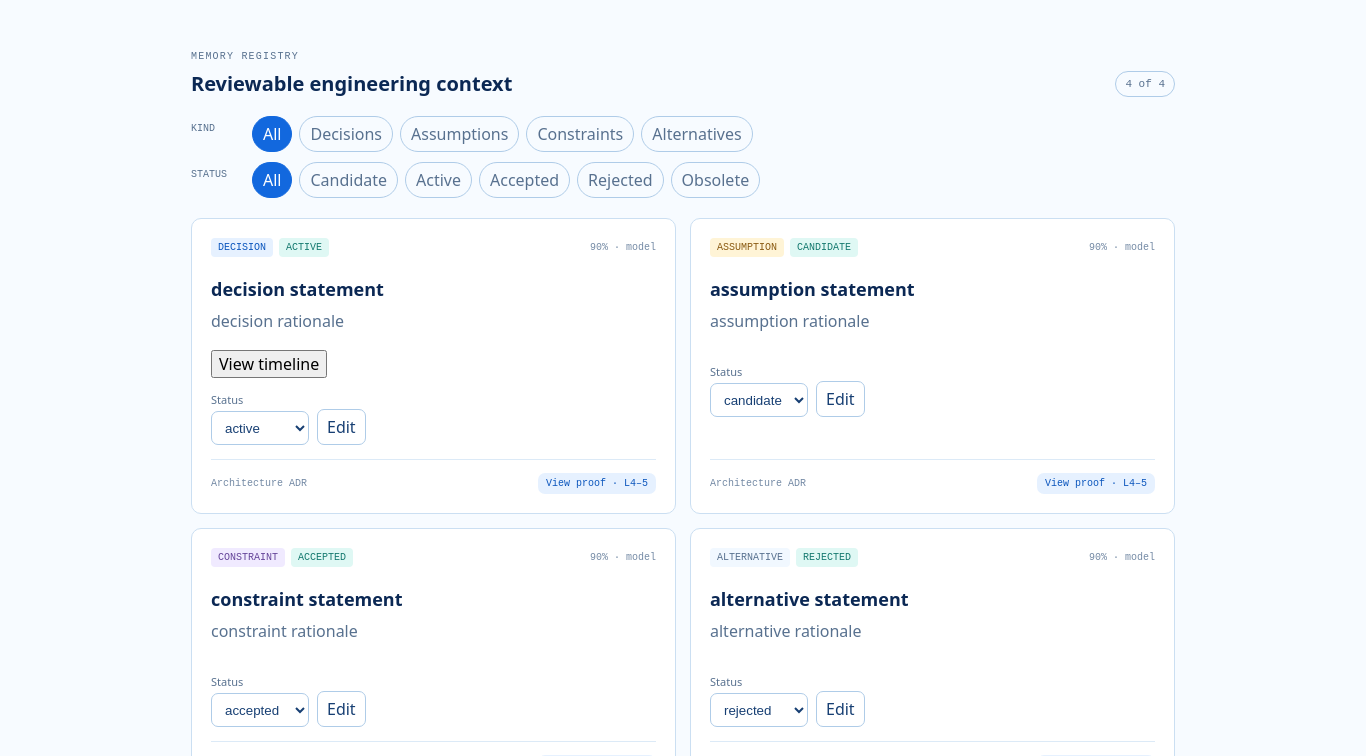
MemoryView › combines status and kind filters honestly
Click the button "accepted" at (525, 180), box [479, 162, 570, 198]
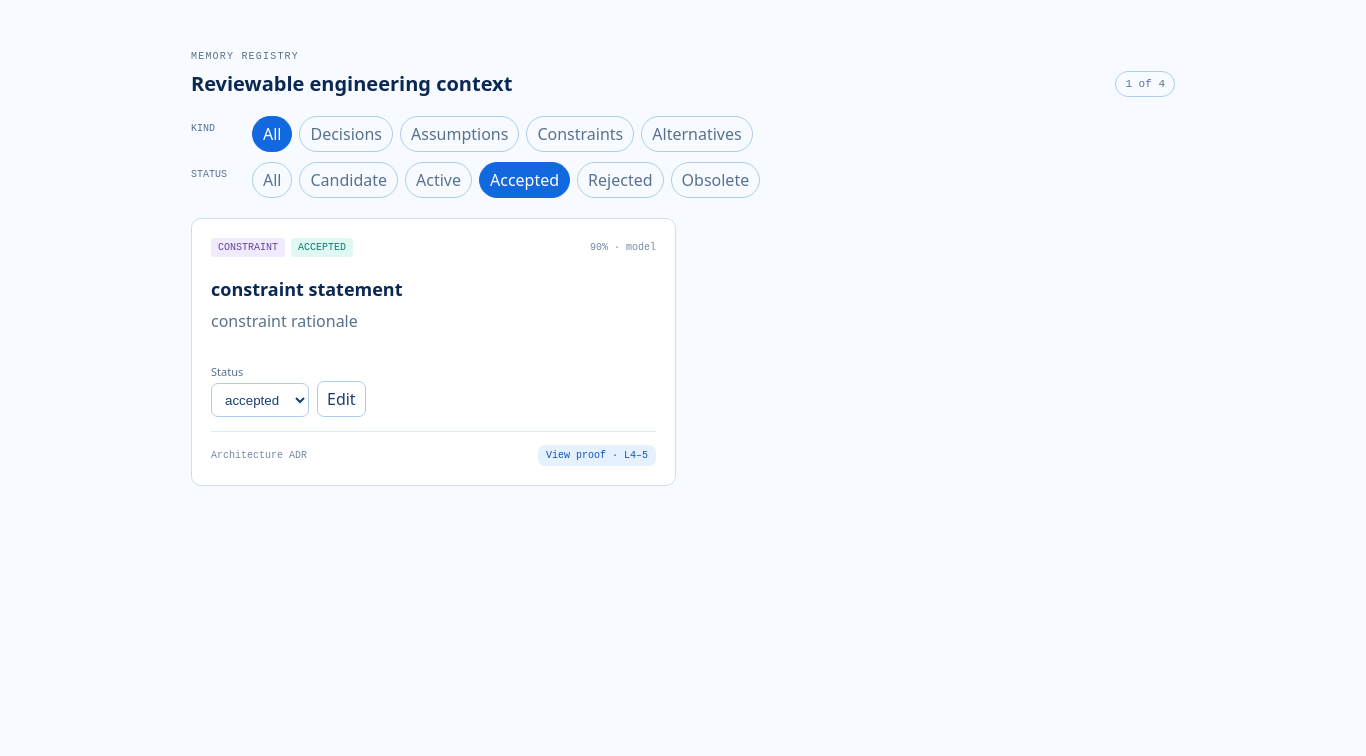
Expected: the heading "constraint statement" is shown, [211, 277, 402, 301]
Result: the heading "assumption statement" is gone
Click the button "Assumptions" at (460, 134), box [400, 116, 519, 152]
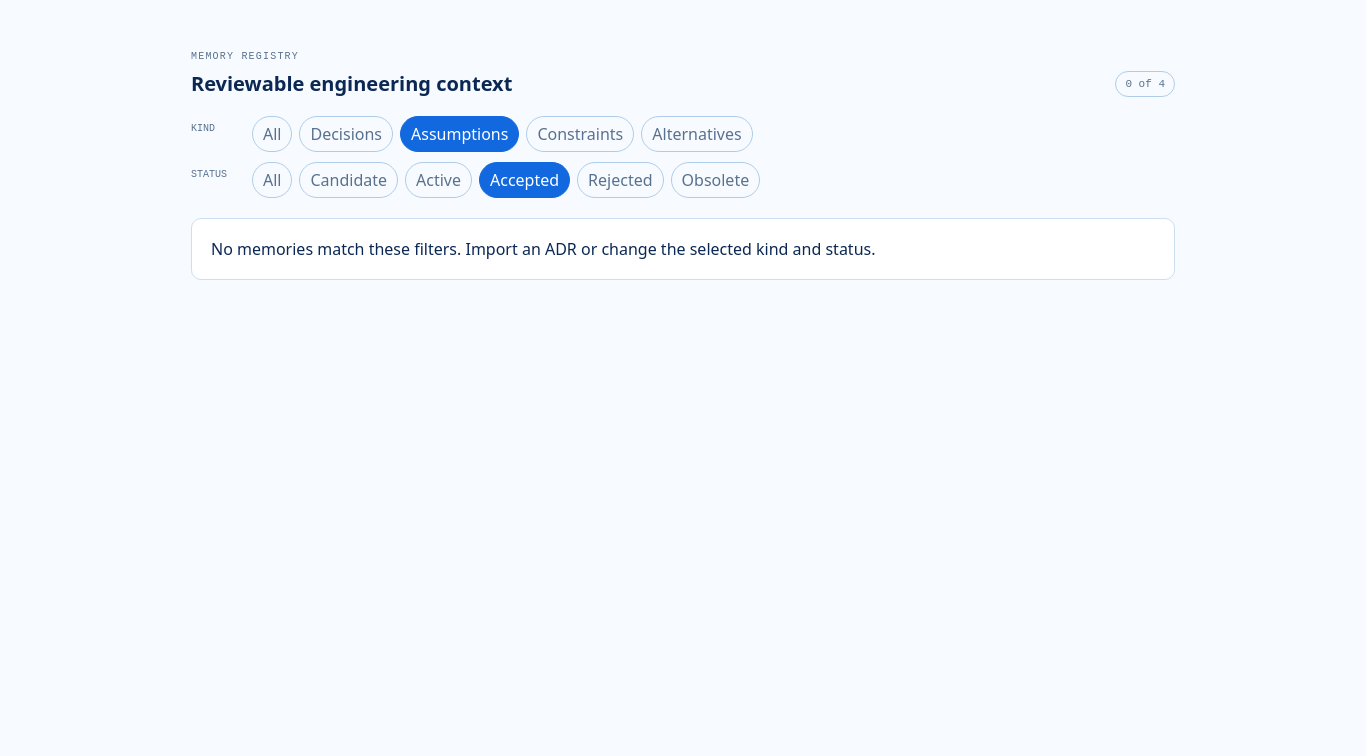
Result: the text "No memories match these filters. Import an ADR or change the selected kind and status." is shown at [211, 238, 876, 260]
